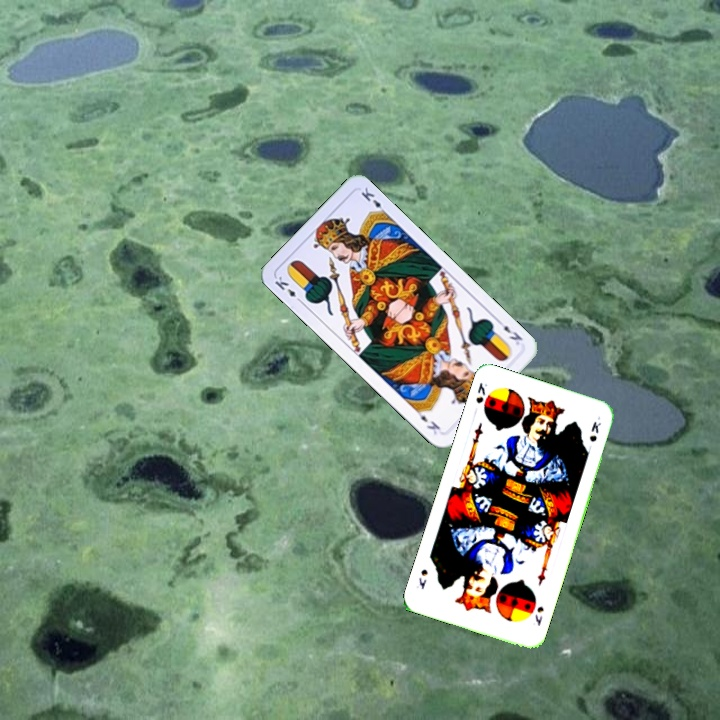EK: (270, 272, 305, 306), (493, 316, 525, 348)
SK: (472, 378, 490, 406), (531, 602, 546, 628)
